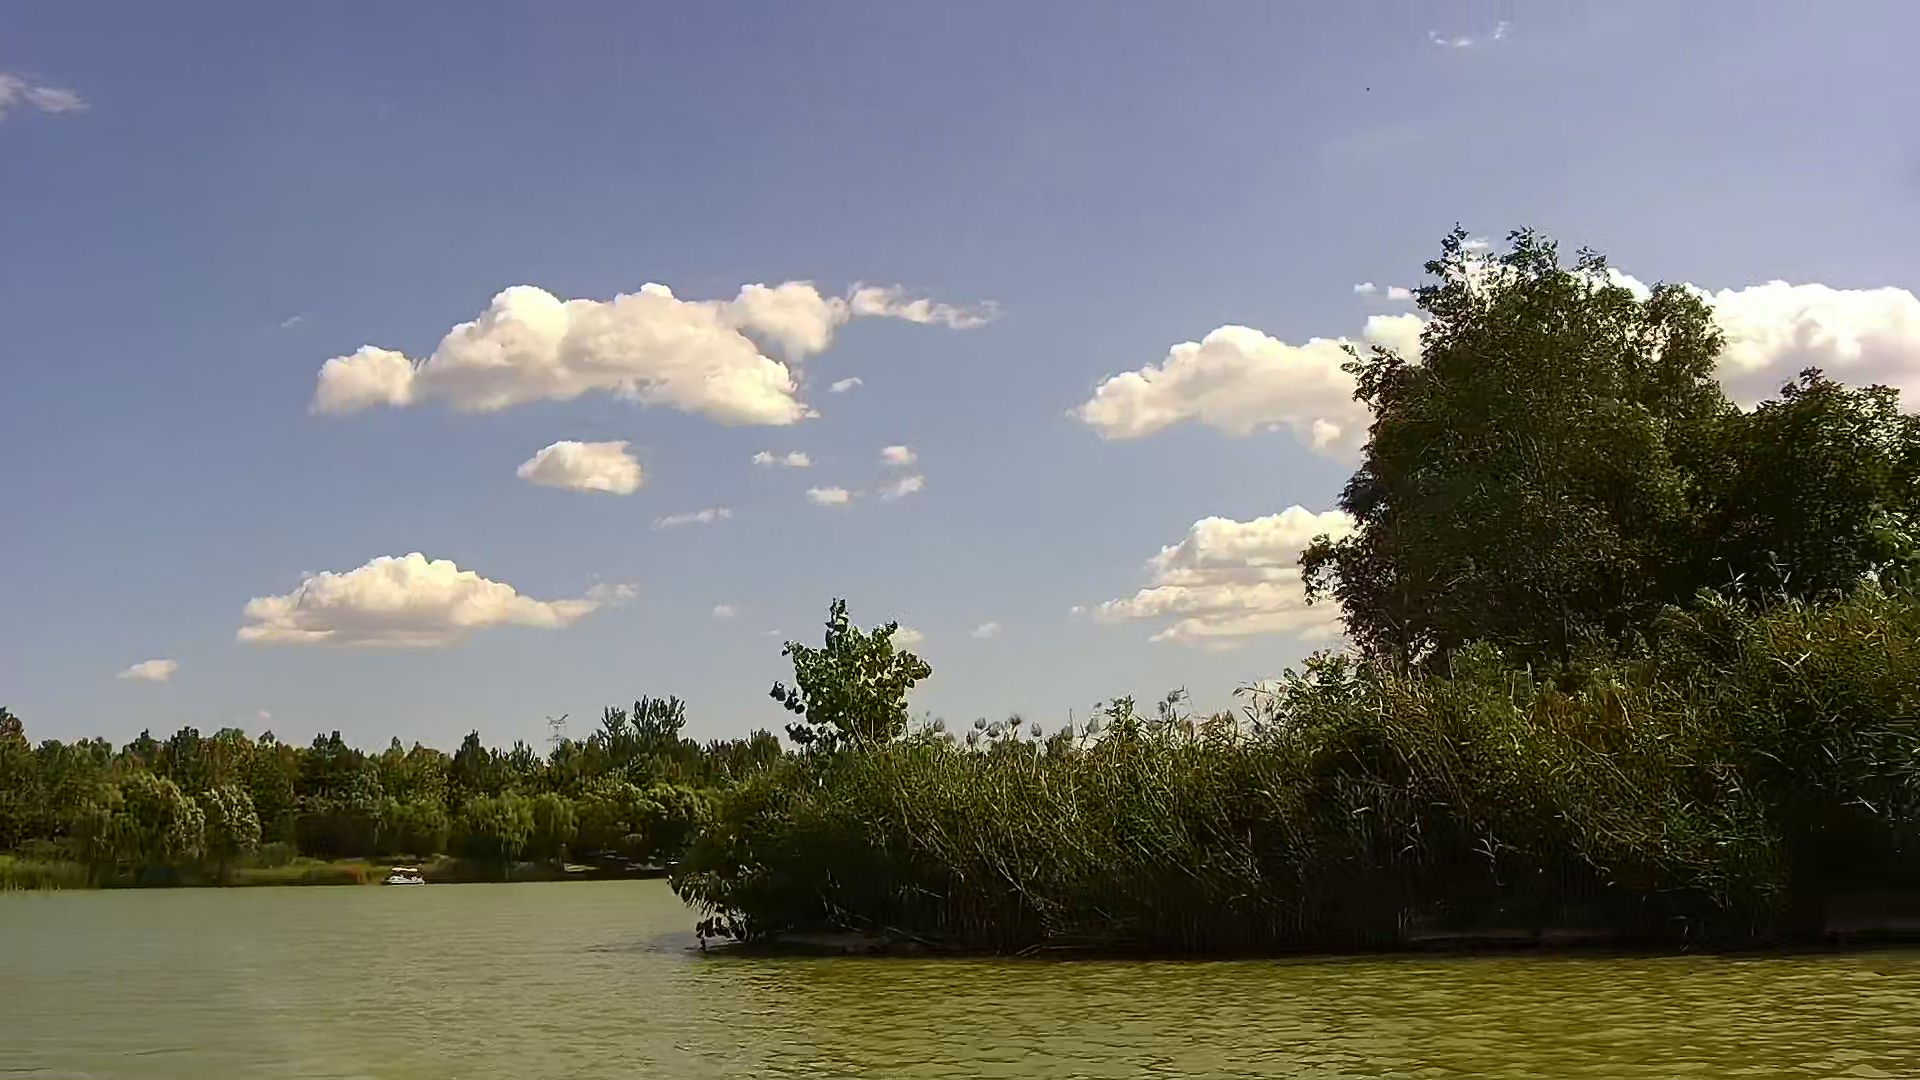boat: (386, 864, 426, 887)
